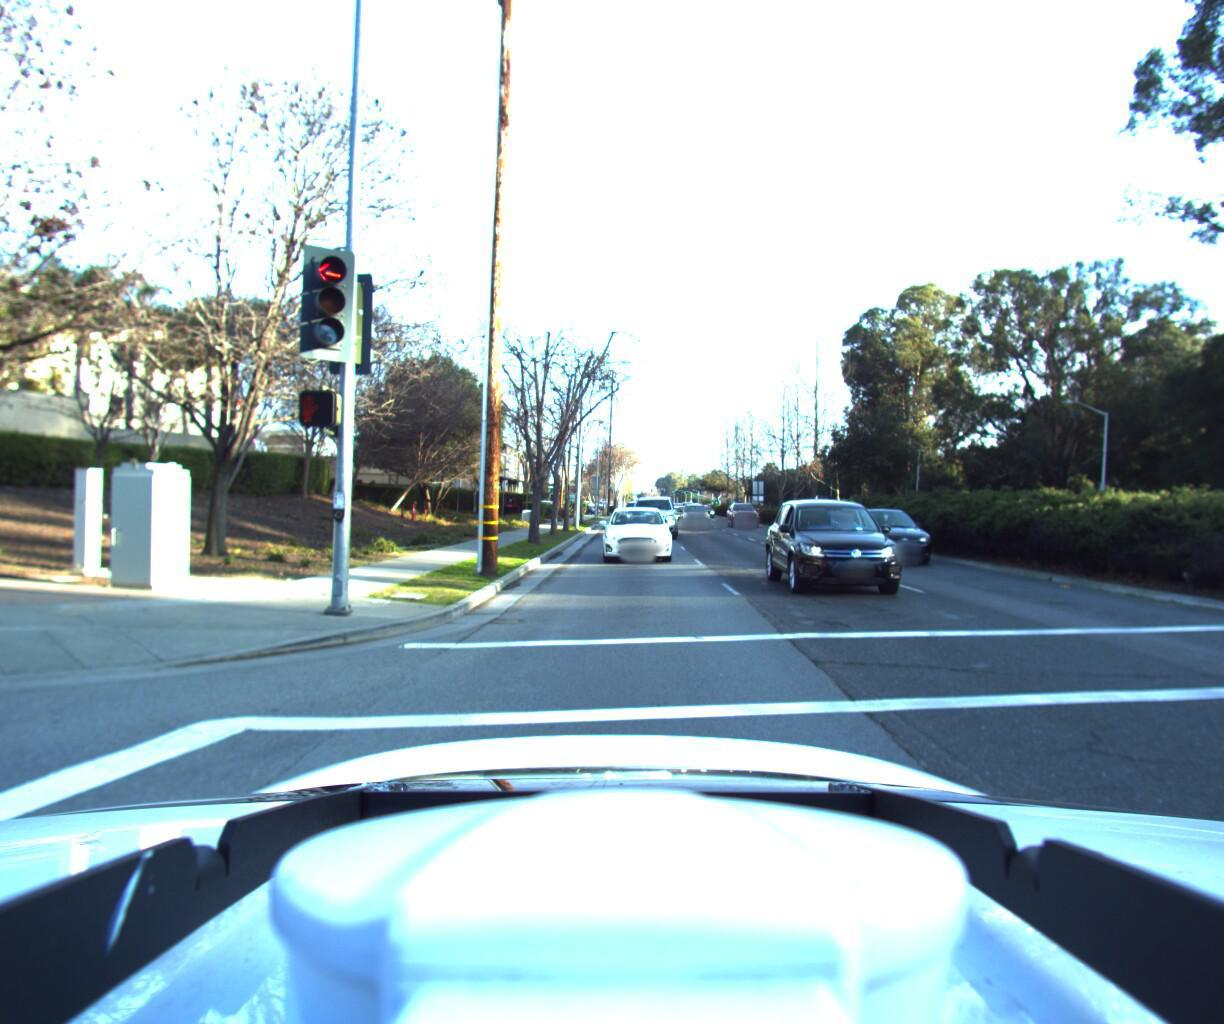car: (767, 493, 938, 612), (848, 500, 960, 568), (602, 502, 675, 566), (624, 491, 678, 541), (679, 498, 712, 528), (729, 499, 764, 526)
